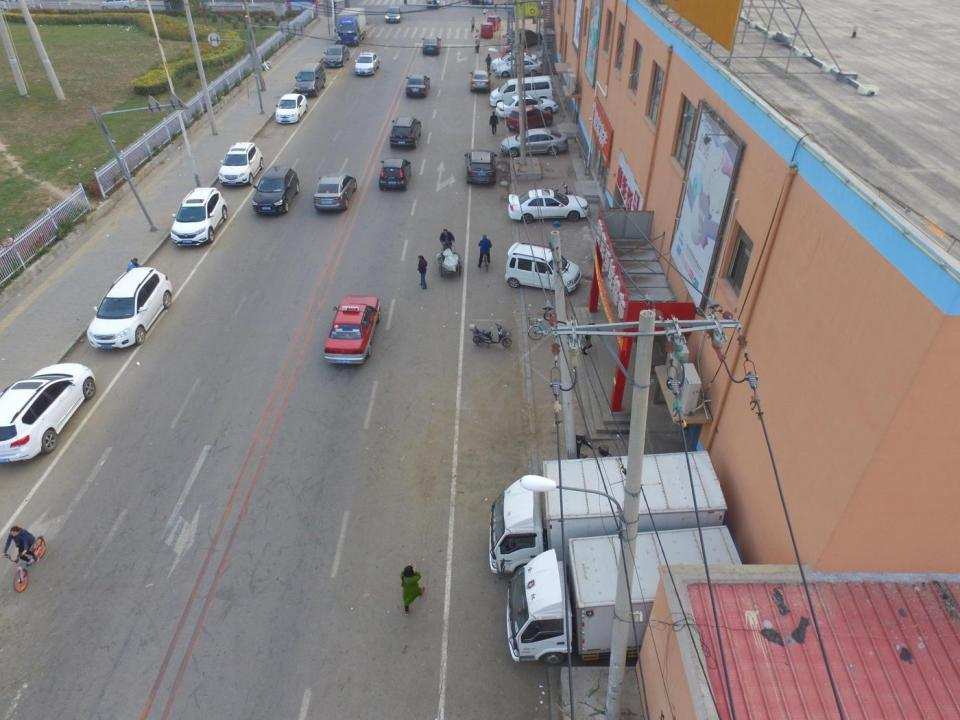car: (0, 362, 95, 463), (86, 267, 173, 350), (504, 242, 582, 296), (324, 295, 381, 364), (170, 186, 228, 247), (508, 189, 590, 224), (252, 165, 300, 216), (219, 141, 265, 186), (500, 127, 568, 157), (314, 172, 358, 212), (494, 94, 558, 119), (506, 105, 554, 133), (378, 158, 412, 192), (464, 149, 497, 184), (274, 92, 309, 124), (494, 56, 544, 78), (389, 116, 421, 149), (491, 50, 538, 69), (506, 27, 543, 49), (354, 51, 380, 77), (405, 73, 430, 98), (324, 44, 350, 68), (469, 69, 492, 92), (421, 35, 441, 55), (384, 6, 404, 24)
truck: (507, 524, 745, 668), (490, 448, 728, 583), (333, 7, 367, 47)
van: (294, 62, 326, 98)
